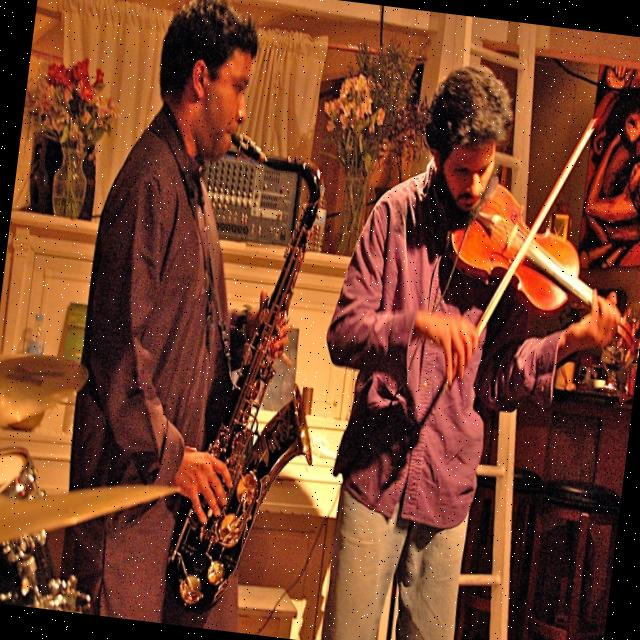drums: (0, 342, 197, 617)
saxophone: (158, 125, 355, 627)
violin: (435, 172, 640, 355)
